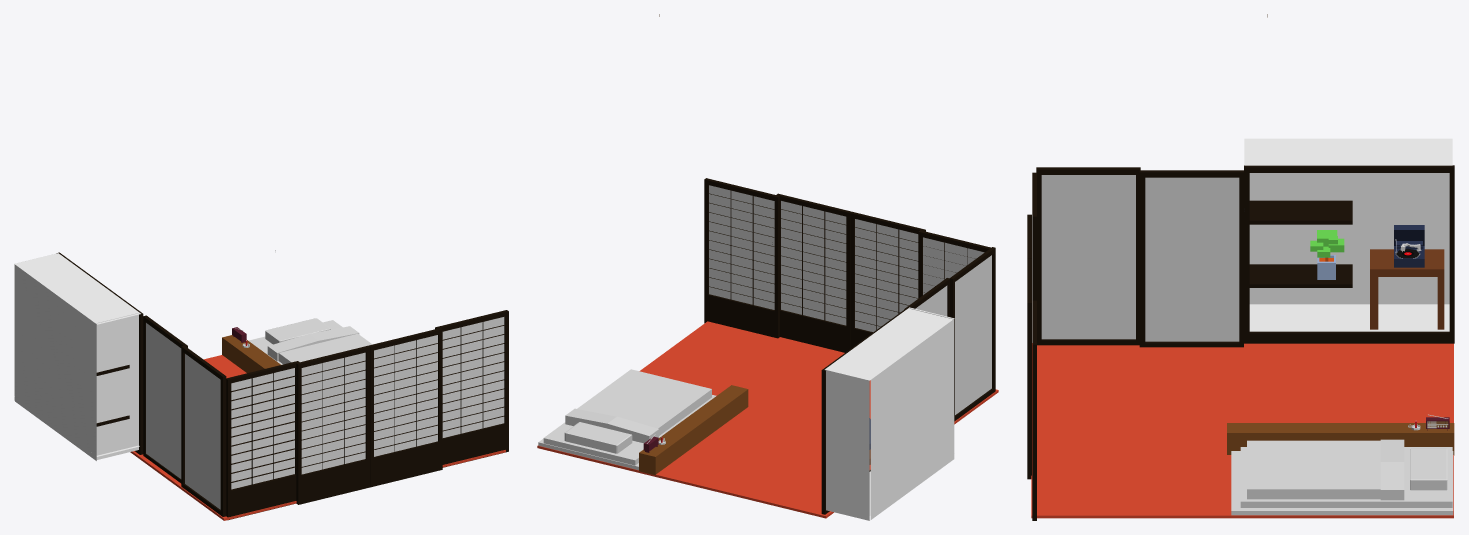
File: Room.fbx
3 views of the same model, side by side, from view 1: azimuth 30°, elevation 25°; view 2: azimuth 150°, elevation 25°; view 3: azimuth 270°, elevation 25° (orthographic). The views are drawn at different scales.
Parts seen in each view (by area): view 1: Zashiki wall1, paper door3, paper door2, paper door1, paper door4, Zashiki wall2, paper door6, paper door5, Sliding door 2, Zashiki wall4, Sliding door 3, Sliding door 1 (+12 smaller); view 2: floor, Zashiki wall1, paper door1, paper door2, Zashiki wall3, quilt, paper door3, paper door5, Sliding door 4, Zashiki wall4, Bedside table, Sliding door 3 (+11 smaller); view 3: floor, Zashiki wall1, paper door5, paper door6, quilt, Zashiki, Zashiki wall4, Zashiki wall5, Bedside table, ddSliding door 2, mattress, ddSliding door 1 (+9 smaller).
Boxes of the visible parts, <box> form: Zashiki wall1: <box>15,265,96,460</box>; paper door3: <box>301,352,365,474</box>; paper door2: <box>374,335,437,456</box>; paper door1: <box>442,317,504,437</box>; paper door4: <box>231,368,294,489</box>; Zashiki wall2: <box>96,312,139,459</box>; paper door6: <box>146,323,181,478</box>; paper door5: <box>185,354,220,509</box>; Sliding door 2: <box>296,345,370,504</box>; Zashiki wall4: <box>14,253,140,324</box>; Sliding door 3: <box>369,328,442,487</box>; Sliding door 1: <box>226,361,299,520</box>; floor: <box>537,321,998,518</box>; Zashiki wall1: <box>870,319,954,519</box>; paper door1: <box>709,185,774,309</box>; paper door2: <box>781,201,846,325</box>; Zashiki wall3: <box>825,370,869,520</box>; quilt: <box>565,369,711,443</box>; paper door3: <box>855,219,918,332</box>; paper door5: <box>955,255,991,414</box>; Sliding door 4: <box>704,178,779,338</box>; Zashiki wall4: <box>825,307,954,380</box>; Bedside table: <box>639,385,748,475</box>; Sliding door 3: <box>776,193,851,352</box>; floor: <box>1031,343,1453,518</box>; Zashiki wall1: <box>1249,173,1449,304</box>; paper door5: <box>1041,175,1135,339</box>; paper door6: <box>1145,177,1239,341</box>; quilt: <box>1247,439,1404,500</box>; Zashiki: <box>1244,165,1454,343</box>; Zashiki wall4: <box>1244,138,1452,165</box>; Zashiki wall5: <box>1249,304,1449,331</box>; Bedside table: <box>1227,423,1454,455</box>; ddSliding door 2: <box>1139,170,1243,347</box>; mattress: <box>1240,447,1452,507</box>; ddSliding door 1: <box>1036,167,1140,345</box>.
Size of the model in its own units: 620 by 690 by 559.
